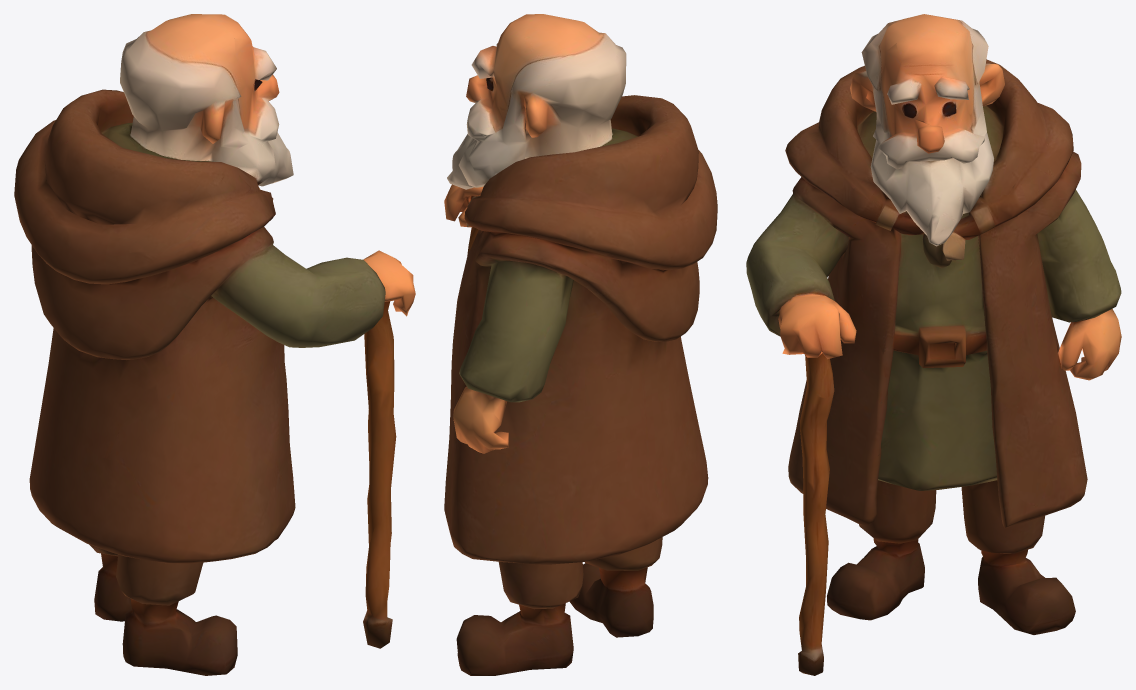
Rendered from villager_elder.glb.
The picture shows the model from 3 angles, left to right: view 1: azimuth 30°, elevation 25°; view 2: azimuth 150°, elevation 25°; view 3: azimuth 270°, elevation 25°; orthographic projection. The views are drawn at different scales.
Parts seen in each view (by area): view 1: tripo_node_2f90925e-566d-40f1-b831-502e4b313408; view 2: tripo_node_2f90925e-566d-40f1-b831-502e4b313408; view 3: tripo_node_2f90925e-566d-40f1-b831-502e4b313408.
Boxes of the visible parts, x1,y1,x2,y2 form: tripo_node_2f90925e-566d-40f1-b831-502e4b313408: (14,14,415,675); tripo_node_2f90925e-566d-40f1-b831-502e4b313408: (444,14,717,675); tripo_node_2f90925e-566d-40f1-b831-502e4b313408: (746,14,1121,675).
Bounding box in the file's own units: 0.5294 × 1 × 0.5694.
1 material, 1 textured.
